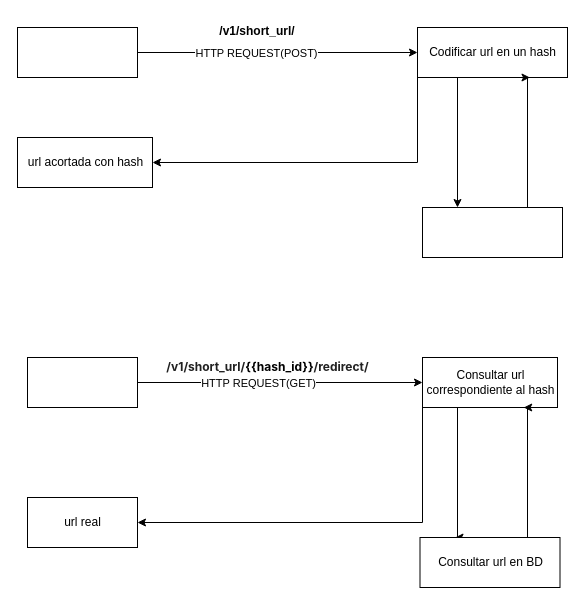
This 585x605 diagram has some shape labels left out. The shapes that lost their labels are listed below. From the top down, each one's centre as x and y in pixels, then its label:
At point (77, 52): "usuario ingresa url".
At point (492, 232): "Registro de url y hash codificado".
At point (82, 382): "Usuario ingresa url con hash".
